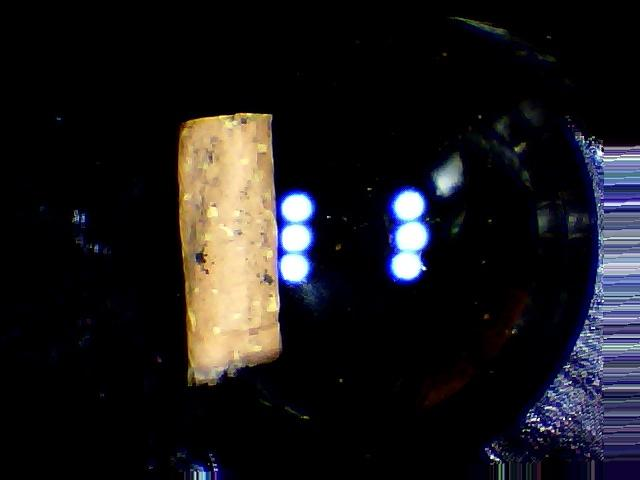megot: (167, 104, 295, 394)
